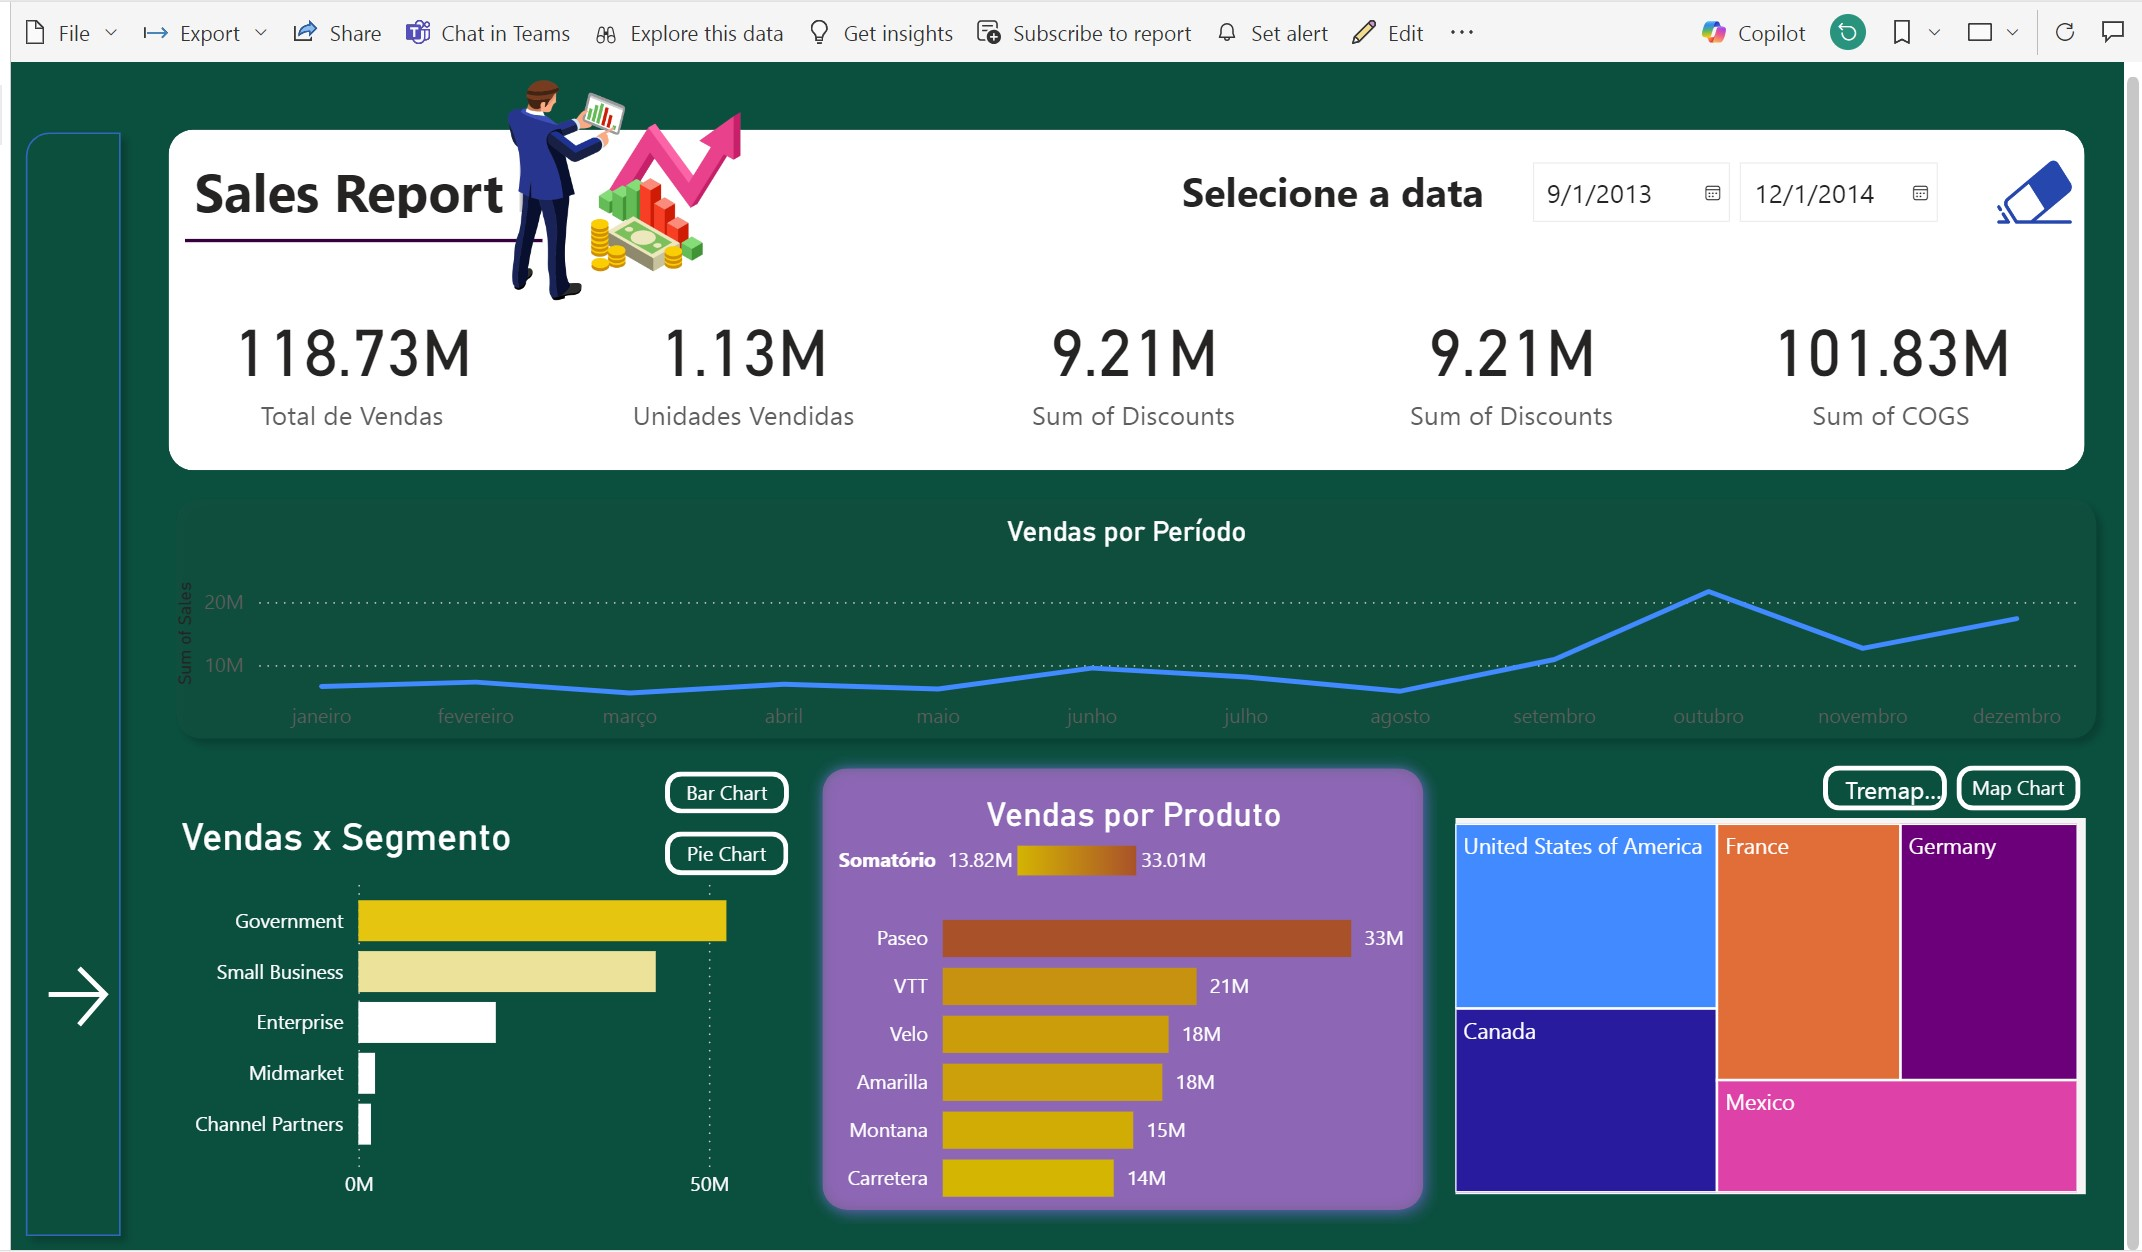

Layout of this report page (visuals, bound fields, positions):
{"tool":"powerbi","page":{"name":"Principal","canvas":[1280,720],"ordinal":0},"visuals":[{"type":"shape","box":[95.8,41.1,1161.3,206.6],"z":0,"group":"g4"},{"type":"shape","box":[90.5,255.5,1181.8,163.7],"z":0,"group":"g3"},{"type":"map","title":"Sales x Country","fields":{"Category":["financials.Country"],"Size":["Sum(financials. Sales)"]},"box":[875,458.3,382,228.1],"z":0,"group":"g1"},{"type":"shape","box":[105.6,92.3,216.7,32.8],"z":1000,"group":"g4"},{"type":"lineChart","title":"Vendas por Período","fields":{"Category":["financials.Date.Variation.Hierarquia de datas.Trimestre","financials.Date.Variation.Hierarquia de datas.Mês"],"Y":["Sum(financials. Sales)"]},"box":[94.3,274.7,1163.2,139.7],"z":1000,"group":"g3"},{"type":"clusteredBarChart","title":"Vendas x Segmento","fields":{"Category":["financials.Segment"],"Y":["Sum(financials. Sales)"]},"box":[97.6,455.9,383.9,241.5],"z":1000,"group":"g2"},{"type":"treemap","title":"Sales x Country","fields":{"Group":["financials.Country"],"Values":["Sum(financials. Sales)"]},"box":[870,456.1,387.2,233.3],"z":1000,"group":"g1"},{"type":"slicer","fields":{"Values":["financials.Date"]},"box":[909.9,50.5,272.2,55.6],"z":2000,"group":"g4"},{"type":"shape","box":[482.8,419.4,382.2,285.6],"z":2000},{"type":"actionButton","title":"Botão - map","box":[1178.7,426.4,75.1,27.3],"z":2000,"group":"g1"},{"type":"actionButton","title":"Botão - bar","box":[396.1,429.6,75.1,25.5],"z":2000,"group":"g2"},{"type":"textbox","box":[704.6,56.2,199.6,45.6],"z":3000,"group":"g4"},{"type":"group","id":"g1","title":"Sales x país","box":[870,426.4,387.2,263.1],"z":3000},{"type":"actionButton","title":"Botão - tremap","box":[1098.5,426.4,75.1,27.3],"z":3000,"group":"g1"},{"type":"actionButton","title":"Botão -pie","box":[395.9,465.7,74.8,26.5],"z":3000,"group":"g2"},{"type":"card","fields":{"Values":["Sum(financials.Units Sold)"]},"box":[338.3,130.3,211,105.5],"z":4000,"group":"g4"},{"type":"clusteredBarChart","title":"Vendas por Produto","fields":{"Y":["Sum(financials. Sales)"],"Category":["financials.Product"]},"box":[496.5,443.6,368.5,261.1],"z":4000},{"type":"textbox","box":[107,50.9,215.2,48.5],"z":5000,"group":"g4"},{"type":"group","id":"g2","title":"Sales x Segmento","box":[97,427,387.2,270.4],"z":5000},{"type":"actionButton","box":[1196.4,54.7,59.9,51.3],"z":6000,"group":"g4"},{"type":"group","id":"g3","title":"Perspectiva temporal das vendas","box":[90.5,255.5,1181.8,163.7],"z":6000},{"type":"group","id":"g4","title":"Filtro por data","box":[95.8,0,1161.8,247.5],"z":7000},{"type":"card","fields":{"Values":["Sum(financials.Discounts)"]},"box":[804.4,130.3,211,105.5],"z":7000,"group":"g4"},{"type":"image","title":"clean","box":[1196.4,50.5,59.9,55.6],"z":8000,"group":"g4"},{"type":"card","fields":{"Values":["Sum(financials.Discounts)"]},"box":[574.9,130.3,211,105.5],"z":9000,"group":"g4"},{"type":"shape","box":[0,33.2,75.4,686.9],"z":9001},{"type":"actionButton","title":"Botão - Next","box":[16.1,543.1,51.3,47.3],"z":9501},{"type":"card","fields":{"Values":["Sum(financials.COGS)"]},"box":[1033.9,130.3,211,105.5],"z":10000,"group":"g4"},{"type":"card","fields":{"Values":["Sum(financials. Sales)"]},"box":[101.7,130.3,211,105.5],"z":11000,"group":"g4"},{"type":"image","box":[265.1,0,252.9,155.7],"z":12000,"group":"g4"}]}

Visuals, with their boxes on the page's 1280x720 design canvas (x1, y1, x2, y2). These are canvas units, not pixel positions in the 2142x1252 screenshot, which may show the page scaled, cropped or inside an application window:
shape: bbox(96, 41, 1257, 248)
shape: bbox(90, 256, 1272, 419)
"Sales x Country" map: bbox(875, 458, 1257, 686)
shape: bbox(106, 92, 322, 125)
"Vendas por Período" lineChart: bbox(94, 275, 1258, 414)
"Vendas x Segmento" clusteredBarChart: bbox(98, 456, 482, 697)
"Sales x Country" treemap: bbox(870, 456, 1257, 689)
slicer - financials.Date: bbox(910, 50, 1182, 106)
shape: bbox(483, 419, 865, 705)
"Botão - map" actionButton: bbox(1179, 426, 1254, 454)
"Botão - bar" actionButton: bbox(396, 430, 471, 455)
textbox: bbox(705, 56, 904, 102)
"Sales x país" group: bbox(870, 426, 1257, 690)
"Botão - tremap" actionButton: bbox(1098, 426, 1174, 454)
"Botão -pie" actionButton: bbox(396, 466, 471, 492)
card - Sum(financials.Units Sold): bbox(338, 130, 549, 236)
"Vendas por Produto" clusteredBarChart: bbox(496, 444, 865, 705)
textbox: bbox(107, 51, 322, 99)
"Sales x Segmento" group: bbox(97, 427, 484, 697)
actionButton: bbox(1196, 55, 1256, 106)
"Perspectiva temporal das vendas" group: bbox(90, 256, 1272, 419)
"Filtro por data" group: bbox(96, 0, 1258, 248)
card - Sum(financials.Discounts): bbox(804, 130, 1015, 236)
"clean" image: bbox(1196, 50, 1256, 106)
card - Sum(financials.Discounts): bbox(575, 130, 786, 236)
shape: bbox(0, 33, 75, 720)
"Botão - Next" actionButton: bbox(16, 543, 67, 590)
card - Sum(financials.COGS): bbox(1034, 130, 1245, 236)
card - Sum(financials. Sales): bbox(102, 130, 313, 236)
image: bbox(265, 0, 518, 156)
